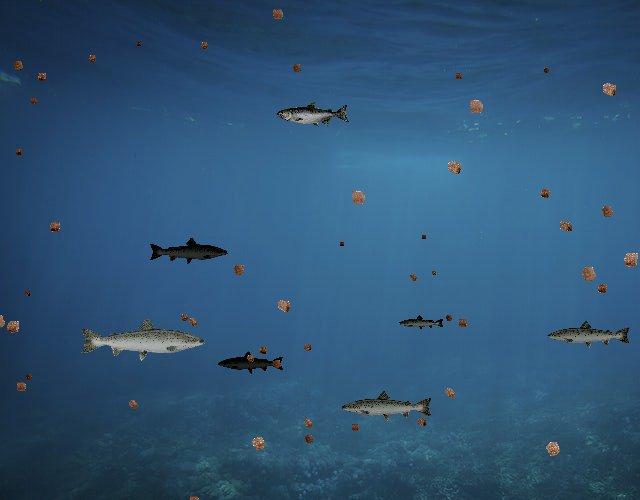Fish: (78, 316, 207, 362), (341, 390, 435, 424), (546, 319, 632, 350), (148, 237, 229, 266), (277, 101, 350, 128), (218, 351, 286, 375), (398, 315, 445, 332)
Pellet: (244, 430, 272, 458), (270, 293, 297, 320), (616, 244, 640, 274), (8, 56, 29, 77), (84, 50, 100, 66), (540, 64, 553, 77), (21, 287, 33, 299)
